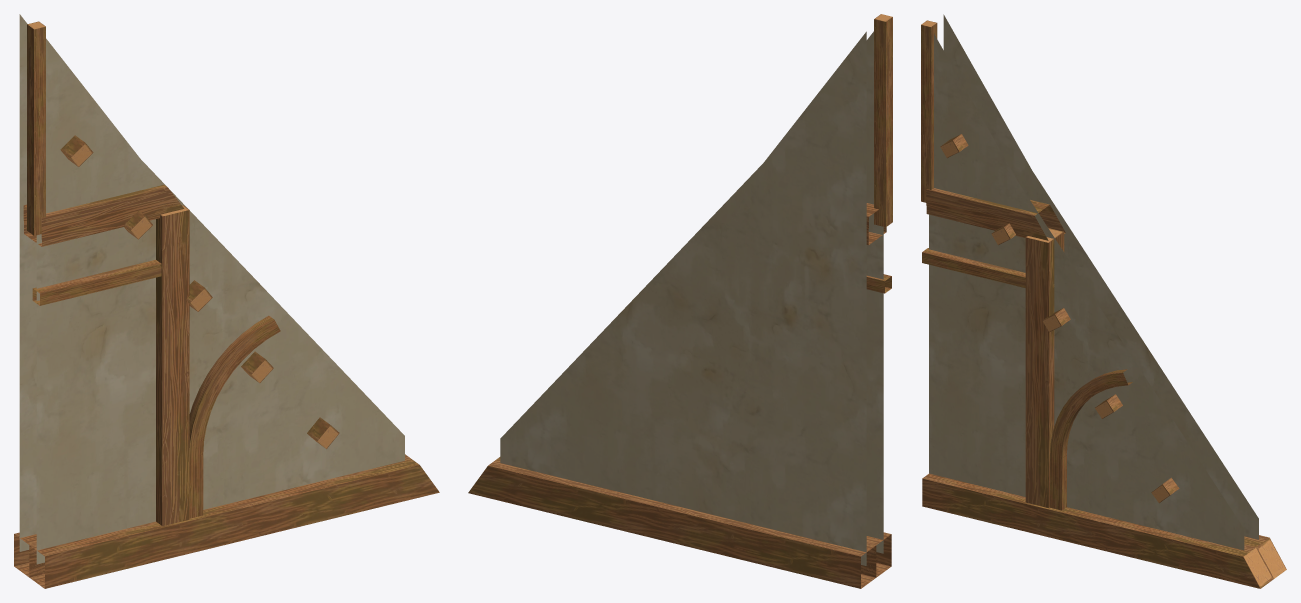
File: Roof_Front_Brick6_Half_R.glb
3 views of the same model, side by side, from view 1: azimuth 30°, elevation 25°; view 2: azimuth 150°, elevation 25°; view 3: azimuth 330°, elevation 25° (orthographic). The views are drawn at different scales.
Visible parts, largest first — view 1: Roof_Front_Brick6_Half_R; view 2: Roof_Front_Brick6_Half_R; view 3: Roof_Front_Brick6_Half_R.
Part boxes in pixels (x1,y1,x2,y2): Roof_Front_Brick6_Half_R: (14,14,439,588); Roof_Front_Brick6_Half_R: (468,14,892,588); Roof_Front_Brick6_Half_R: (921,14,1286,588).
Bounding box in the file's own units: 3.4 × 4.52 × 0.4895.
Materials: 2 (2 with a texture image).
